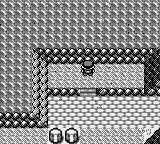main: (81, 60, 95, 76)
no-caminable: (1, 0, 160, 127), (48, 128, 79, 143), (145, 130, 159, 143)
salto: (96, 88, 144, 95), (48, 88, 79, 96)
